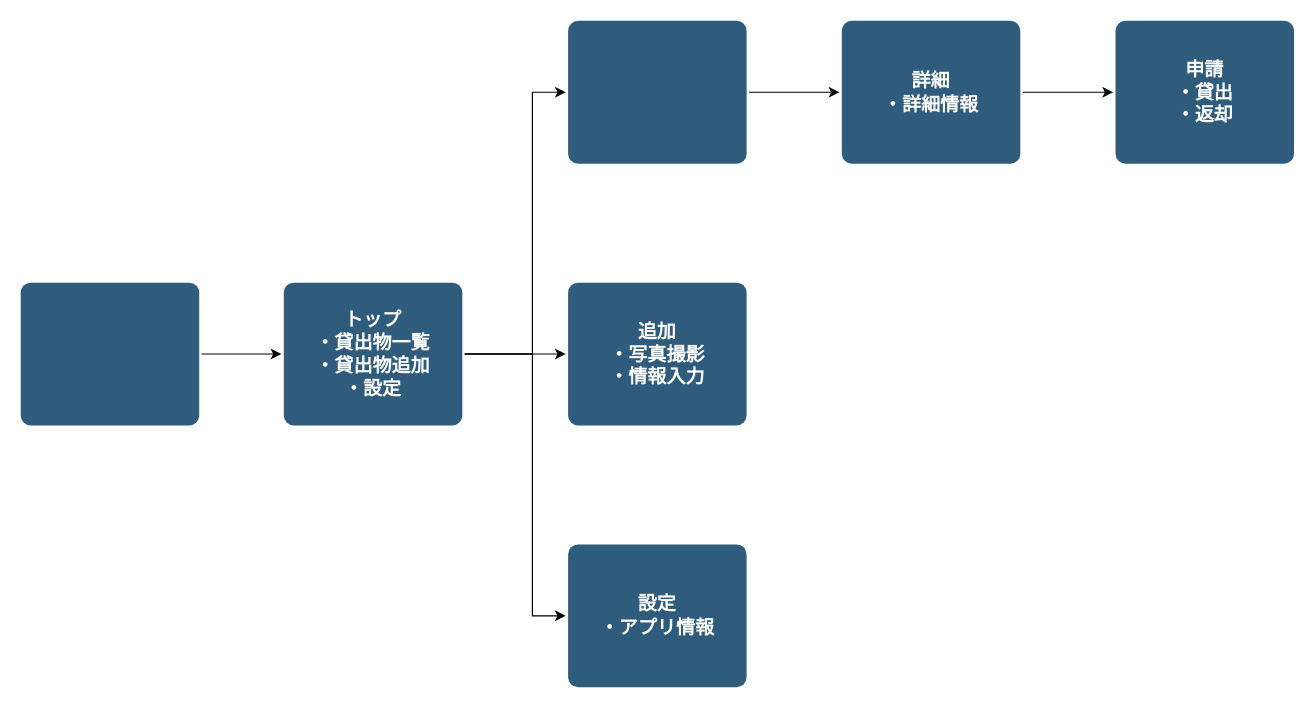
Image size: 1314x707. Some labels were removed from this diagram. Here are the shapes that lost their labels. From the top down, the centre of each, then its label:
At (x=657, y=91): "一覧 ・ステータス表示 ・検索 ・申請".
At (x=109, y=353): "ドメイン ・入力".
